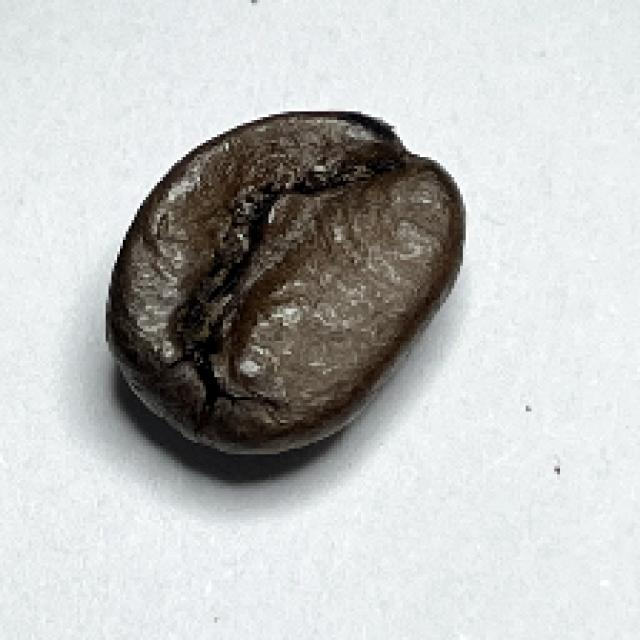bean: (102, 107, 471, 455)
